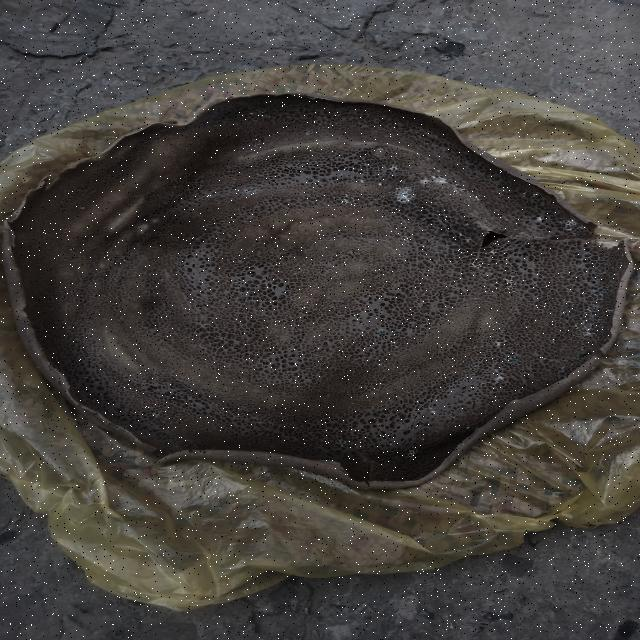injera_mold: (576, 318, 608, 346), (448, 182, 482, 202), (560, 216, 588, 235), (392, 187, 418, 204), (484, 368, 508, 385), (336, 192, 358, 206), (432, 169, 449, 185), (403, 447, 421, 462), (556, 308, 575, 320), (502, 276, 516, 292), (470, 258, 490, 269), (583, 304, 604, 314), (242, 187, 261, 197), (334, 438, 351, 449), (504, 356, 522, 366), (522, 190, 540, 200), (374, 329, 390, 339), (574, 351, 588, 361), (388, 164, 398, 174), (593, 289, 604, 298), (419, 177, 432, 184), (150, 412, 162, 418), (495, 340, 507, 346), (534, 216, 545, 222), (390, 342, 399, 349), (378, 363, 388, 369), (589, 280, 598, 286), (468, 365, 476, 370), (584, 252, 593, 256), (490, 250, 497, 255), (68, 247, 76, 251), (576, 255, 582, 260), (378, 182, 383, 187), (80, 206, 86, 210), (360, 179, 365, 183), (472, 346, 478, 349)
